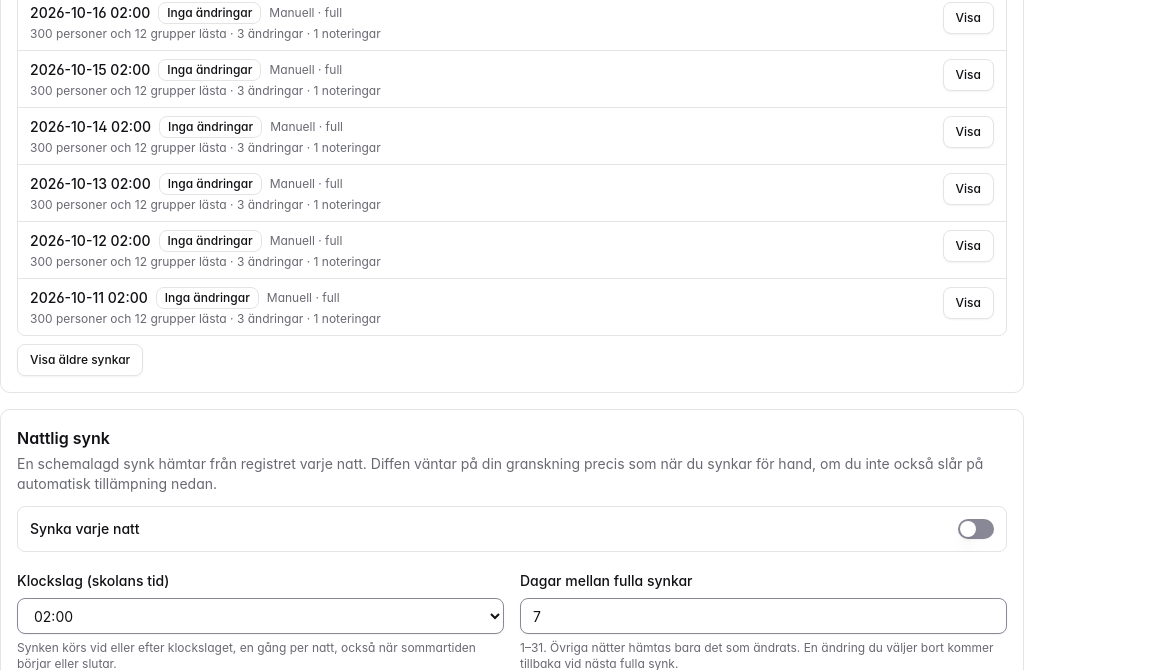
Test: /admin/integrations — the register › keeps every run reachable: older runs page by `before`, and a run's errors are named
(page scrolled)
Click the button "Visa äldre synkar" at (80, 360), box top-left (17, 344), bottom-right (143, 376)
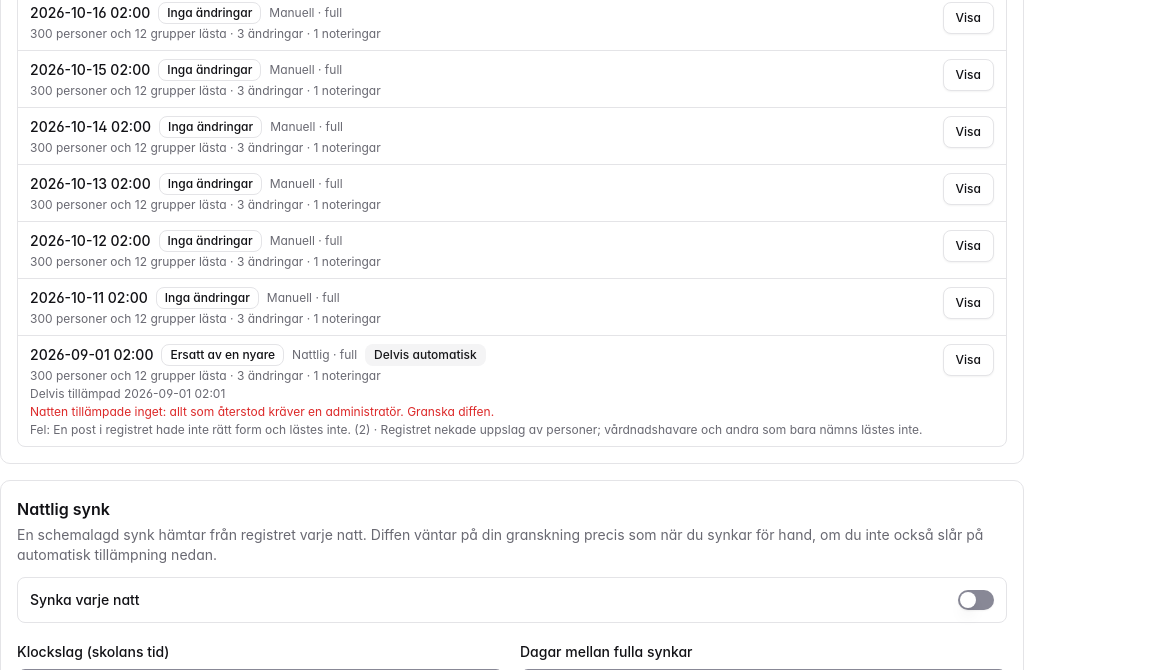
Now the text "Delvis tillämpad 2026-09-01 02:01" is shown, box top-left (30, 386), bottom-right (225, 401)
Now the text "Natten tillämpade inget: allt som återstod kräver en administratör. Granska diffen." is shown, box top-left (30, 404), bottom-right (494, 419)
Now the text "Fel: En post i registret hade inte rätt form och lästes inte. (2) · Registret nekade uppslag" is shown, box top-left (30, 422), bottom-right (922, 437)
